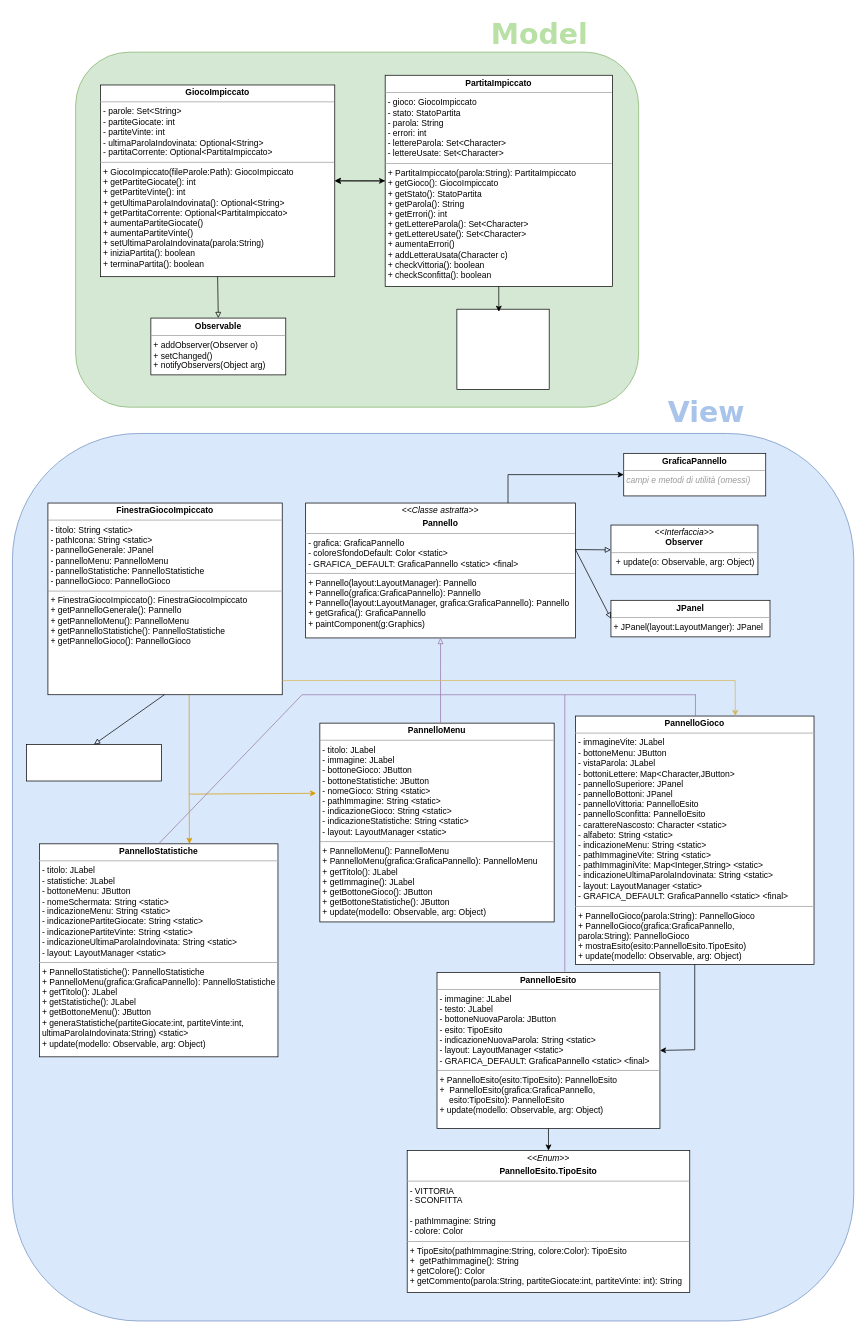
Some shapes in this 866 by 1333 pixel diagram are drawn without their labels. The centre of each missing label's shape, as x and y in pixels:
<<Enum>> StatoPartita - IN CORSO - PERSA - VINTA - TERMINATA: [502,348]
JFrame + JFrame(titolo:String): JFrame: [94,762]
